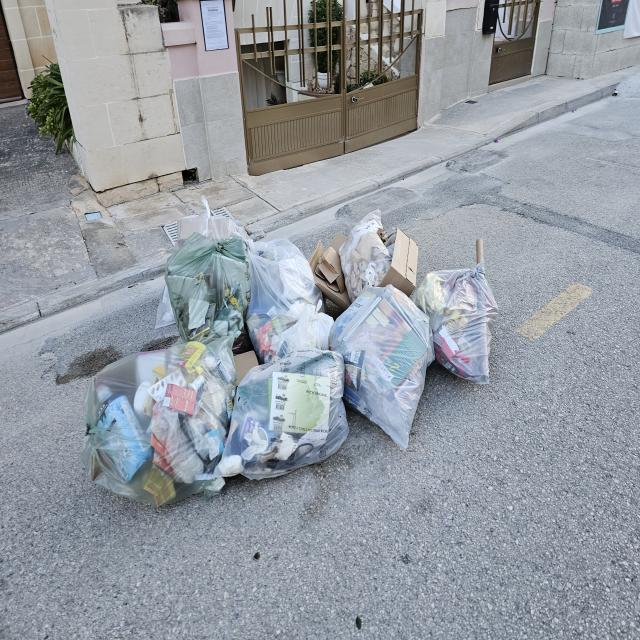grey_bag: (82, 341, 232, 508), (219, 349, 348, 484), (327, 286, 433, 448), (414, 268, 500, 379), (163, 236, 243, 346), (246, 240, 316, 350)
other_waste: (314, 212, 422, 286)
